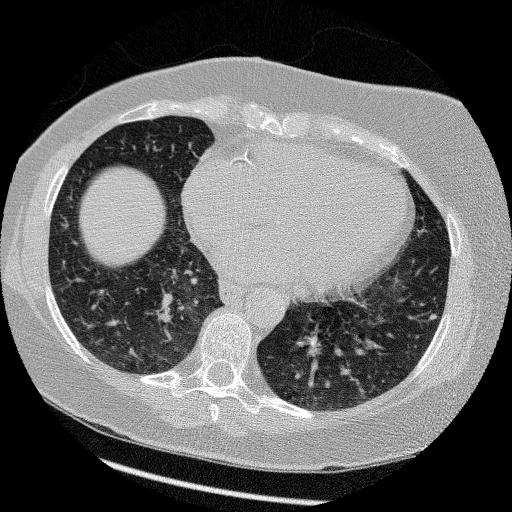nodule: (425, 310, 441, 326)
